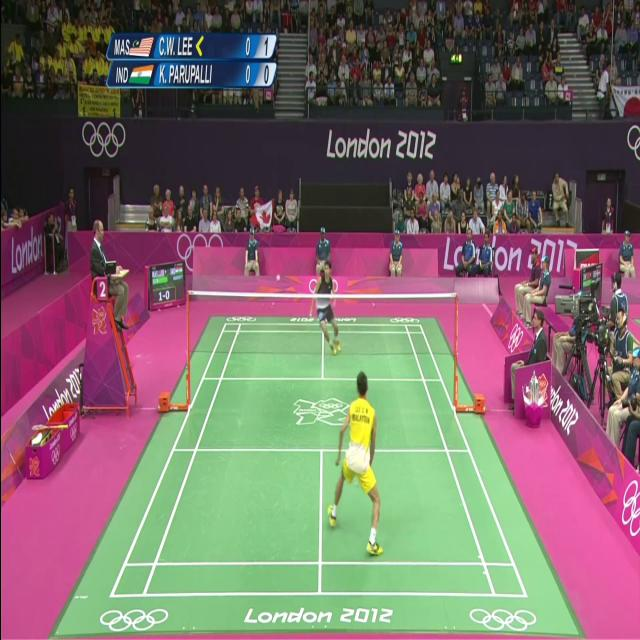Net: (185, 286, 457, 386)
Player1: (323, 364, 386, 562)
Player2: (305, 248, 351, 358)
Shuttlecock: (272, 267, 283, 285)
